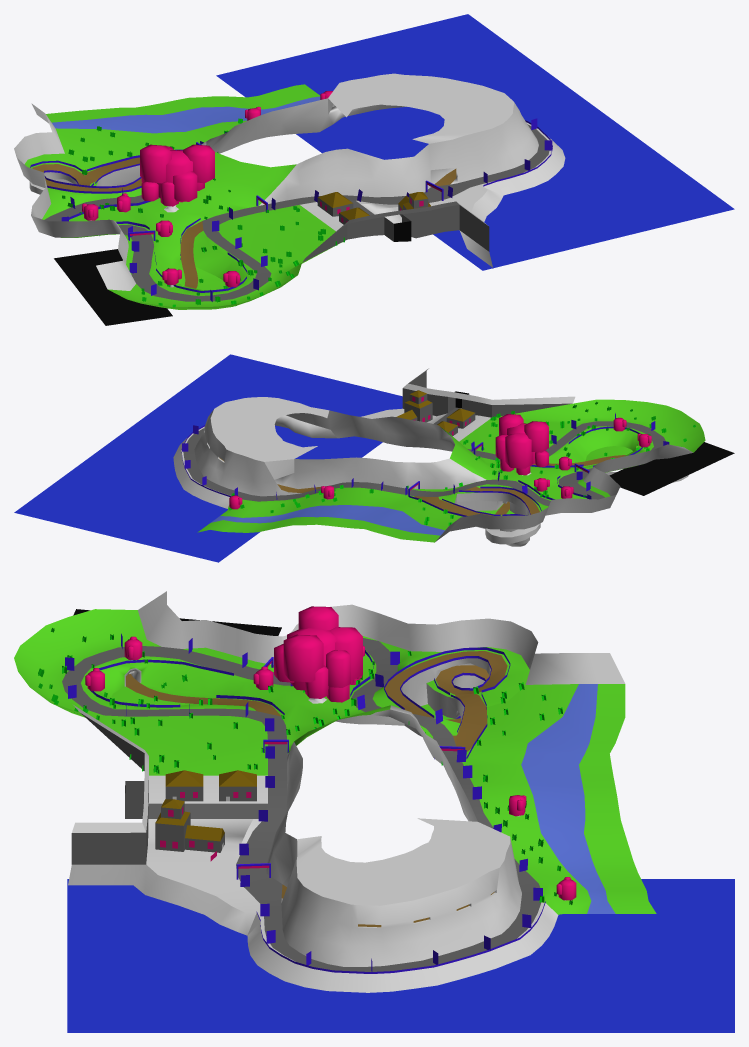
The model's file is trackww.dae.
3 views of the same model, one above another, from view 1: azimuth 30°, elevation 25°; view 2: azimuth 150°, elevation 25°; view 3: azimuth 270°, elevation 25° (orthographic). The views are drawn at different scales.
Visible parts, largest first — view 1: TRACK; view 2: TRACK; view 3: TRACK.
Boxes of the visible parts, x1,y1,x2,y2 form: TRACK: (14,14,734,325); TRACK: (14,354,734,562); TRACK: (14,591,734,1032).
Size of what is drawn, in the model's own units: 191 by 152 by 30.72.
